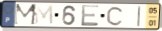6: (61, 4, 78, 26)
C: (106, 6, 126, 27)
E: (81, 4, 101, 27)
I: (136, 5, 143, 28)
M: (13, 3, 39, 27), (34, 4, 55, 26)
